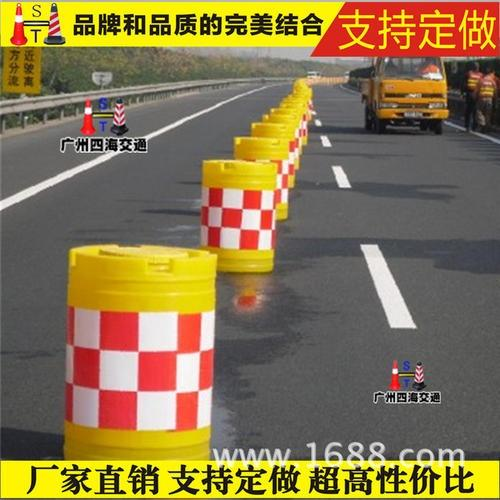cone_barrel: (64, 237, 213, 461), (199, 157, 274, 271), (235, 131, 289, 218)
